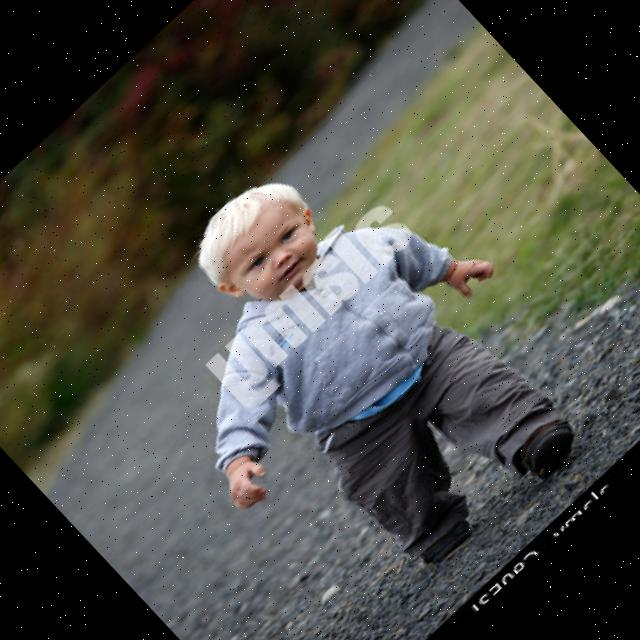Person: (78, 97, 624, 640)
